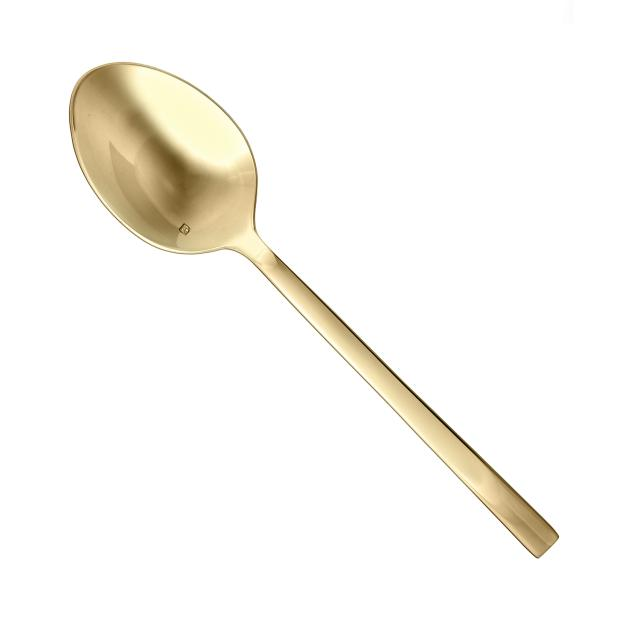spoon: (58, 49, 560, 562)
